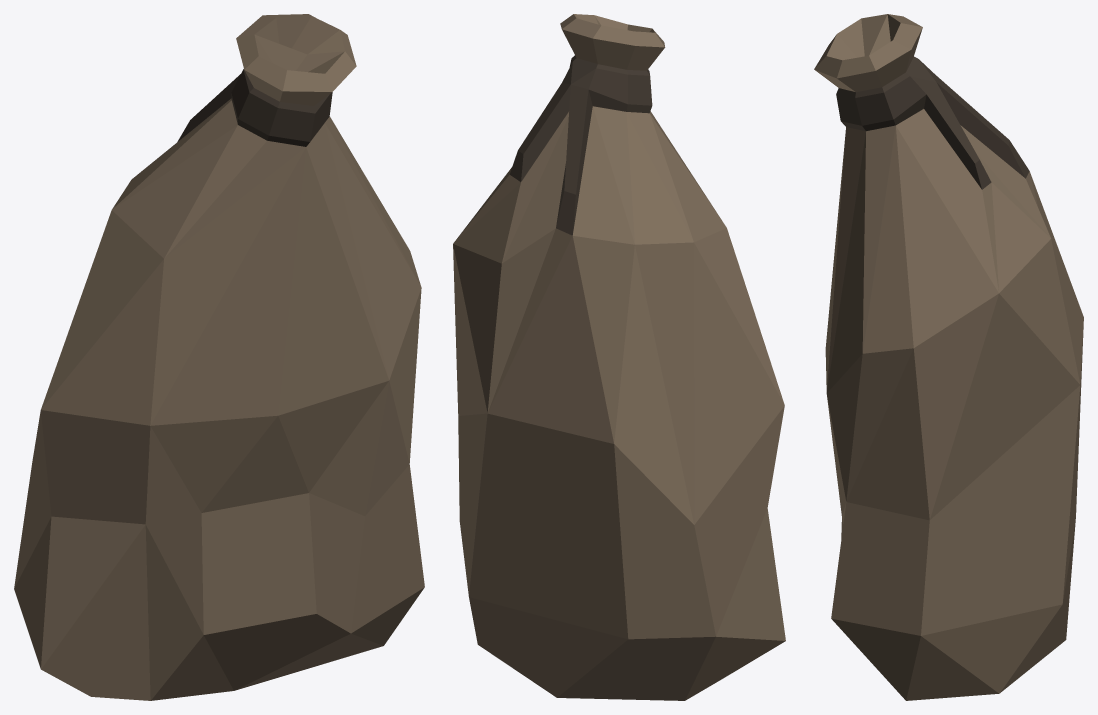
Rendered from SM_Item_Bag_Attachment_01.glb.
3 renders of one model, left to right at view 1: azimuth 30°, elevation 25°; view 2: azimuth 150°, elevation 25°; view 3: azimuth 270°, elevation 25°, orthographic. The views are drawn at different scales.
Visible parts, largest first — view 1: SM_Item_Bag_Attachment_01; view 2: SM_Item_Bag_Attachment_01; view 3: SM_Item_Bag_Attachment_01.
Part boxes in pixels (left/top/right/bottom): SM_Item_Bag_Attachment_01: left=14, top=14, right=424, bottom=700; SM_Item_Bag_Attachment_01: left=453, top=14, right=785, bottom=700; SM_Item_Bag_Attachment_01: left=814, top=14, right=1083, bottom=700.
Size of the model in its own units: 0.00246 by 0.00449 by 0.00166.
